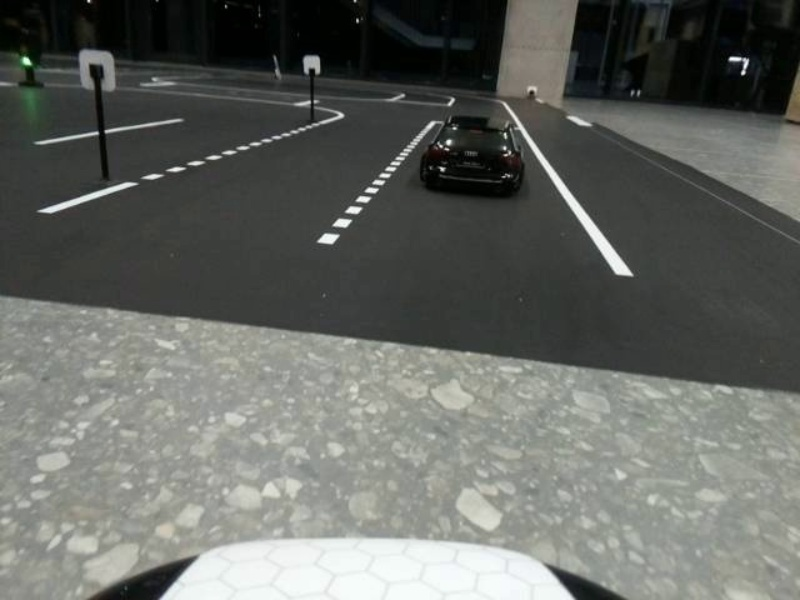car: (417, 107, 529, 203)
